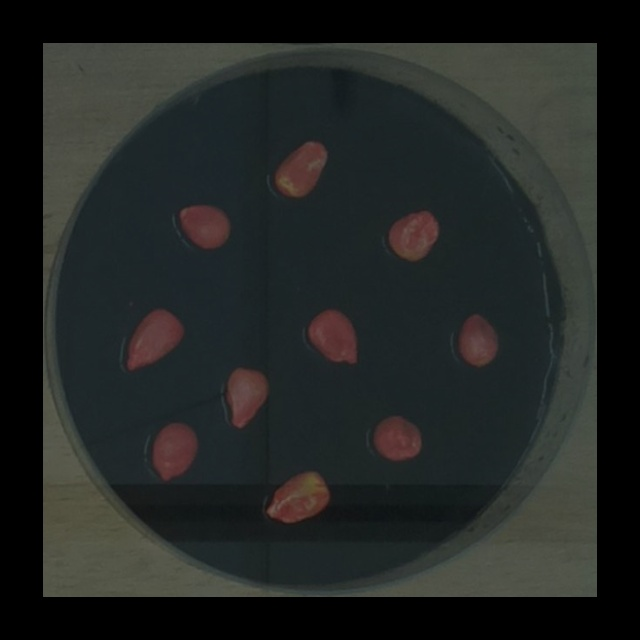Zea mays: (119, 300, 191, 378), (260, 463, 337, 529), (267, 132, 334, 203), (301, 301, 365, 371), (219, 359, 277, 434), (380, 202, 446, 267), (147, 416, 204, 487), (171, 198, 236, 255), (367, 408, 429, 467), (453, 307, 504, 372)
